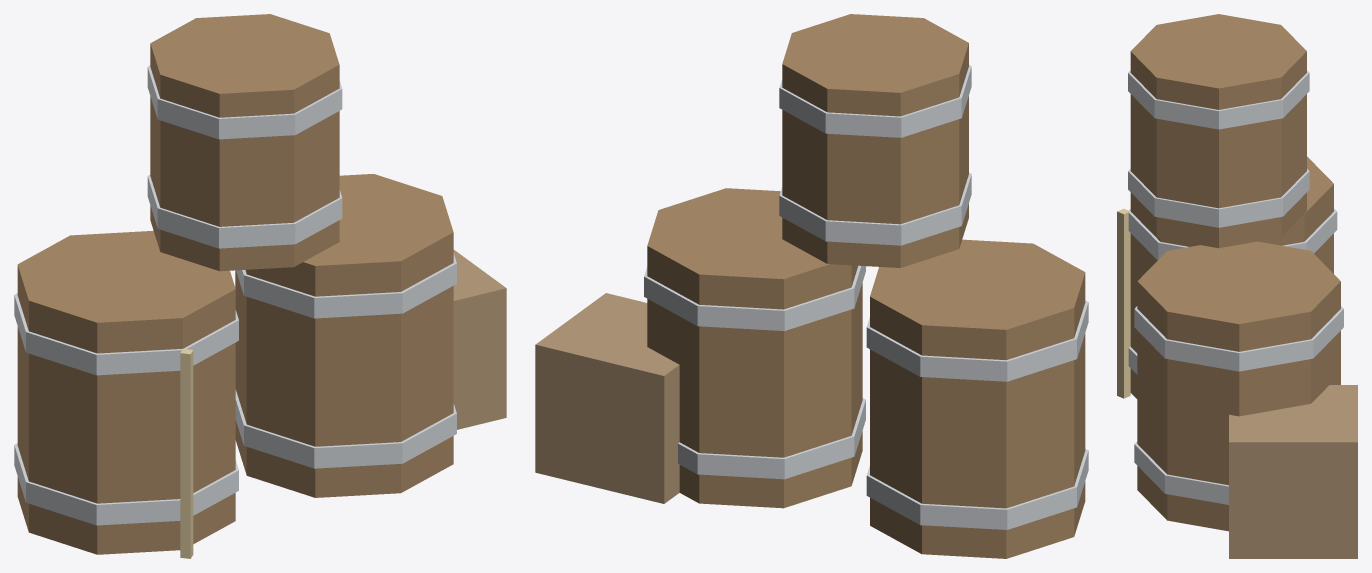
File: barrel_stacked.glb
3 renders of one model, left to right at view 1: azimuth 30°, elevation 25°; view 2: azimuth 150°, elevation 25°; view 3: azimuth 270°, elevation 25°, orthographic. The views are drawn at different scales.
Parts seen in each view (by area): view 1: barrel_0, barrel_1, barrel_2, crate.001, hoop_1_0, hoop_0_1, hoop_1_1, hoop_0_0, hoop_2_1, hoop_2_0, rope.001; view 2: barrel_0, barrel_1, barrel_2, crate.001, hoop_0_1, hoop_0_0, hoop_1_1, hoop_2_1, hoop_2_0, hoop_1_0; view 3: barrel_1, barrel_2, crate.001, hoop_1_1, barrel_0, hoop_2_1, hoop_2_0, rope.001, hoop_1_0, hoop_0_1.
Part boxes in pixels (x1,y1,x2,y2): barrel_0: [17, 230, 235, 554]; barrel_1: [235, 174, 453, 497]; barrel_2: [150, 14, 339, 271]; crate.001: [453, 250, 506, 429]; hoop_1_0: [235, 389, 456, 468]; hoop_0_1: [14, 293, 238, 375]; hoop_1_1: [236, 253, 456, 318]; hoop_0_0: [14, 443, 238, 525]; hoop_2_1: [147, 65, 342, 139]; hoop_2_0: [147, 175, 342, 248]; rope.001: [180, 349, 193, 558]; barrel_0: [870, 239, 1085, 558]; barrel_1: [647, 188, 862, 508]; barrel_2: [782, 14, 968, 267]; crate.001: [535, 293, 679, 503]; hoop_0_1: [866, 300, 1088, 381]; hoop_0_0: [866, 449, 1088, 529]; hoop_1_1: [644, 265, 865, 330]; hoop_2_1: [779, 65, 971, 137]; hoop_2_0: [779, 172, 971, 245]; hoop_1_0: [678, 398, 865, 479]; barrel_1: [1137, 241, 1340, 531]; barrel_2: [1130, 14, 1306, 248]; crate.001: [1229, 385, 1357, 558]; hoop_1_1: [1134, 306, 1343, 371]; barrel_0: [1130, 156, 1333, 398]; hoop_2_1: [1128, 70, 1309, 129]; hoop_2_0: [1128, 169, 1309, 227]; rope.001: [1117, 208, 1130, 398]; hoop_1_0: [1134, 441, 1228, 504]; hoop_0_1: [1128, 208, 1337, 260].
Size of the model in its own units: 1.47 by 1.28 by 0.71.
